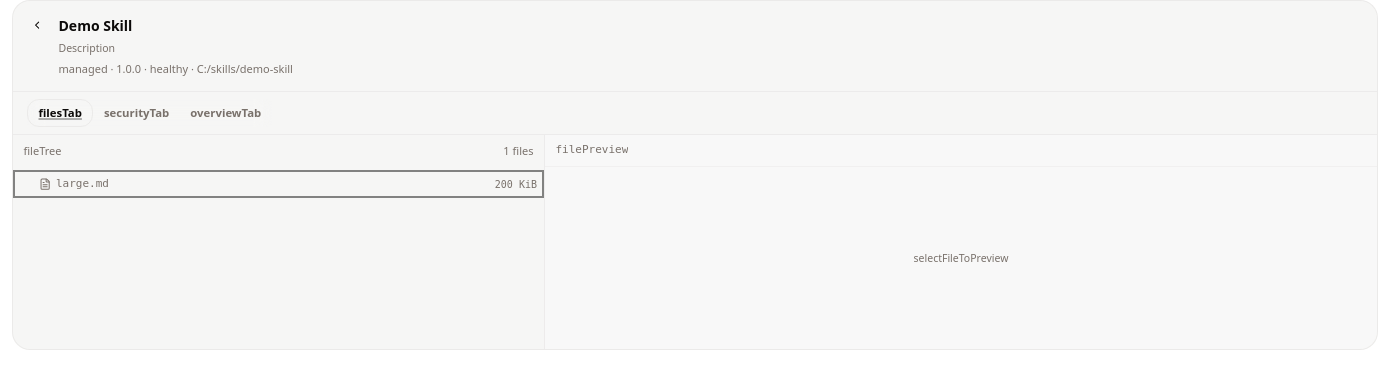
Test: lazy Skill file details › continues a large UTF-8 preview in bounded segments
Step 1. Click the list item "large.md 200 KiB" → [82, 183], box top-left (13, 170), bottom-right (544, 198)
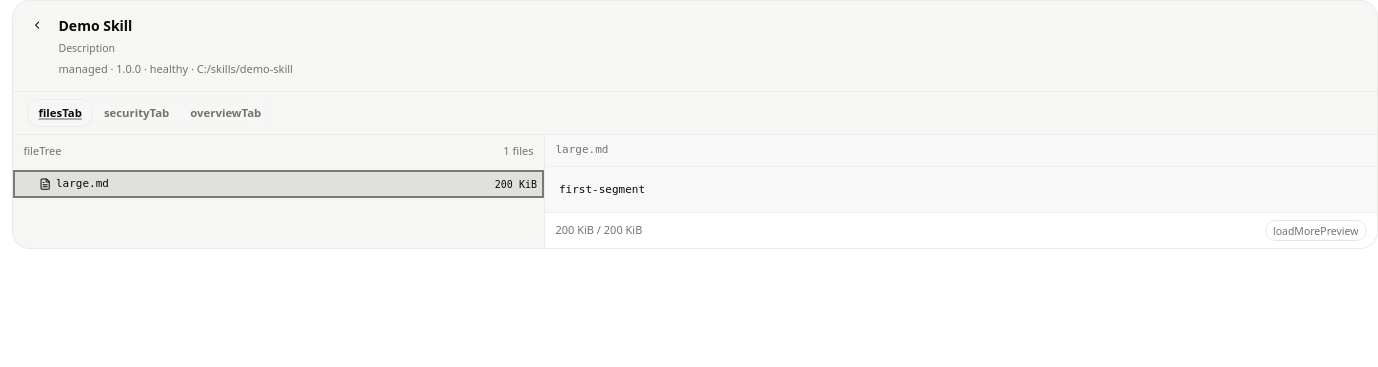
Now the text "first-segment" is shown, box top-left (559, 182), bottom-right (645, 196)
Step 2. Click the button "loadMorePreview" → [1316, 230], box top-left (1265, 220), bottom-right (1366, 241)
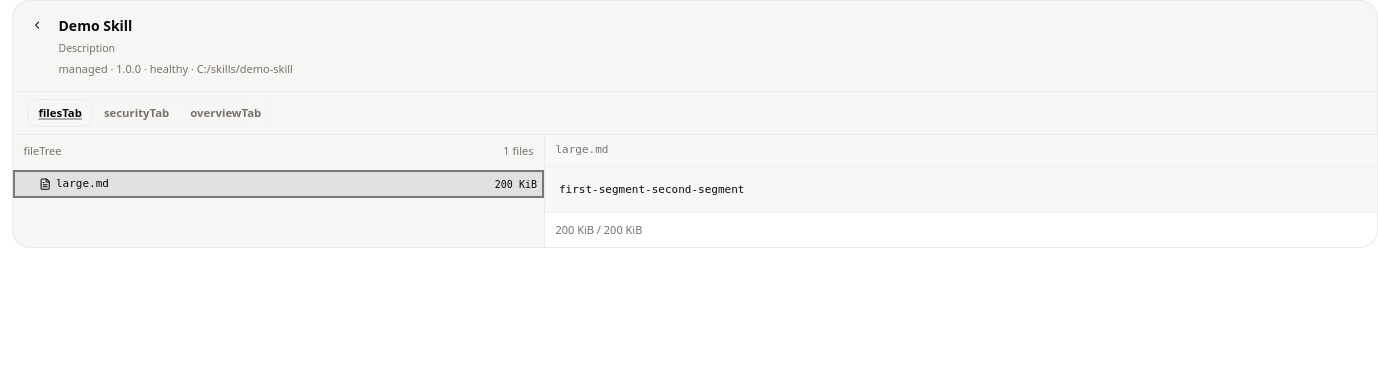
Now the text "first-segment-second-segment" is shown, box top-left (559, 182), bottom-right (744, 196)
